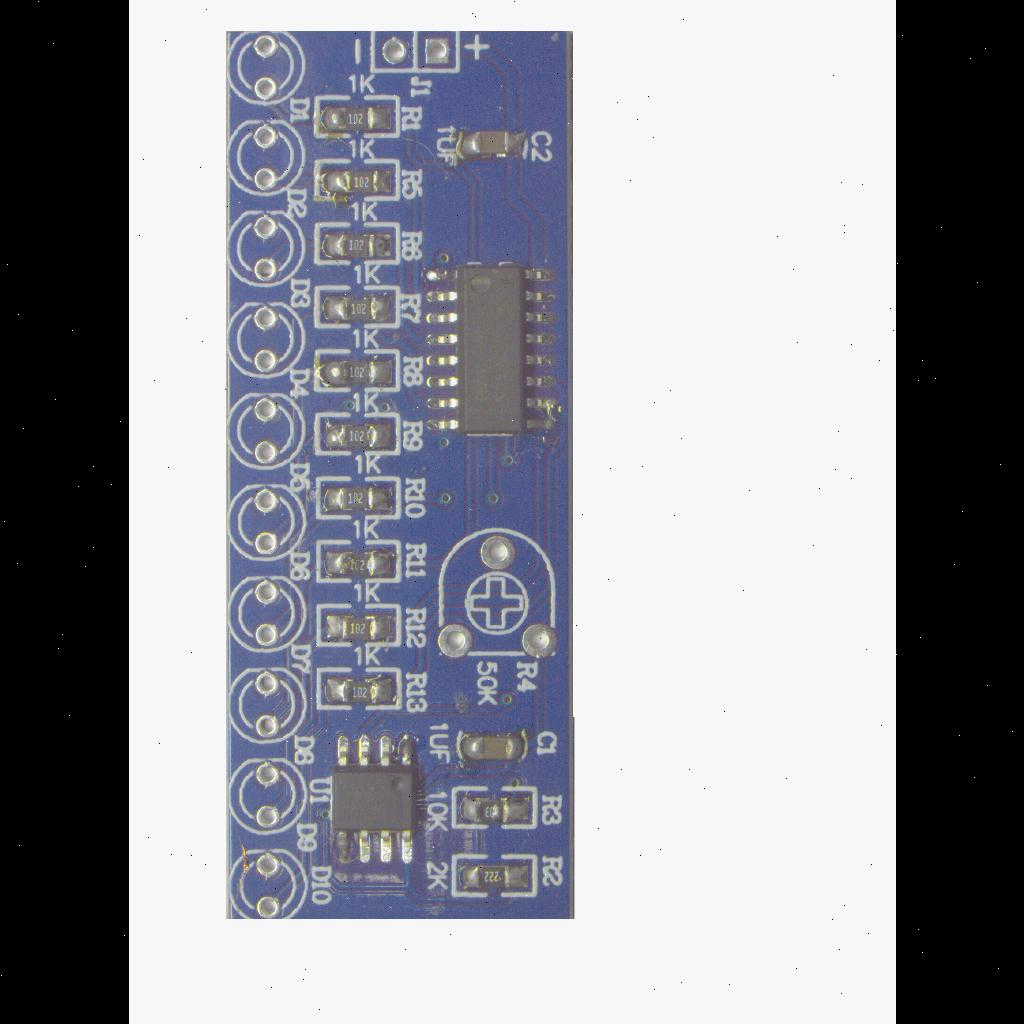OK: (416, 256, 564, 446), (325, 726, 425, 874), (310, 92, 402, 142), (312, 536, 404, 586), (448, 850, 540, 900), (312, 410, 402, 460), (312, 666, 404, 714), (448, 784, 540, 832), (312, 602, 404, 650), (310, 348, 402, 396), (310, 284, 404, 330), (312, 220, 402, 268), (312, 475, 402, 523), (310, 158, 400, 204), (452, 727, 532, 769), (450, 126, 530, 164)
